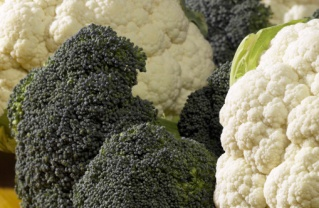cauliflower: (0, 0, 214, 154), (212, 18, 318, 207)
